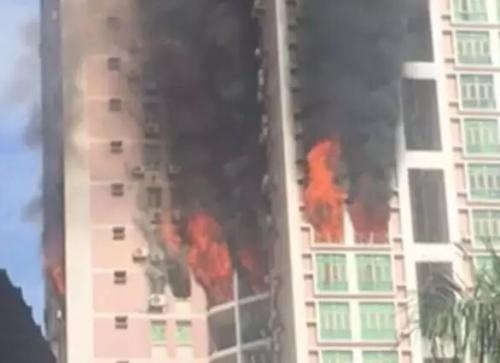fire: (161, 211, 273, 297), (302, 141, 344, 243), (355, 203, 390, 242), (49, 262, 66, 292)
